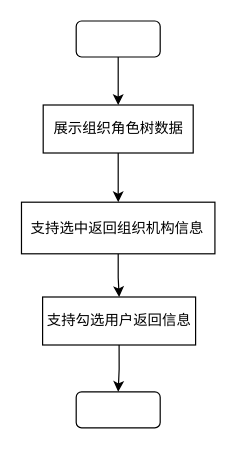
This 236x449 diagram has some shape labels left out. Each missing label, with the centre of its shape:
"开始" goes at (x=117, y=38).
"结束" goes at (x=117, y=409).
